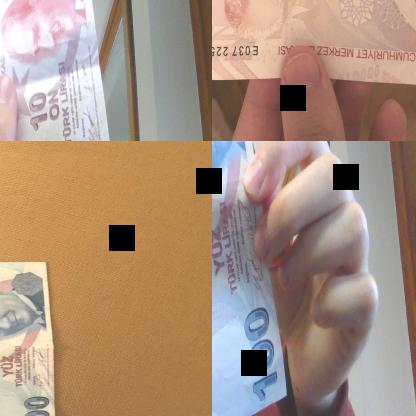5 TL: (0, 0, 124, 140)
